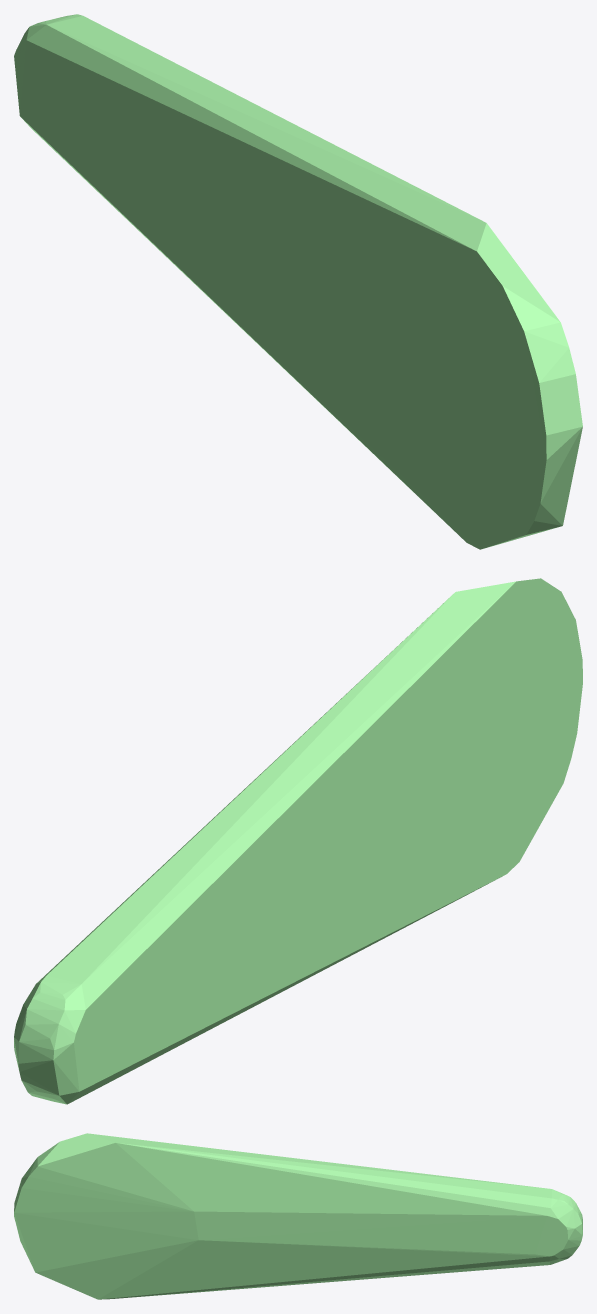
Rendered from flywheel_pendulum__34__.dae.
The picture shows the model from 3 angles, top to bottom: view 1: azimuth 30°, elevation 25°; view 2: azimuth 150°, elevation 25°; view 3: azimuth 270°, elevation 25°; orthographic projection. The views are drawn at different scales.
Visible parts, largest first — view 1: Node_0x7f5228fcb300; view 2: Node_0x7f5228fcb300; view 3: Node_0x7f5228fcb300.
Boxes of the visible parts, x1,y1,x2,y2 form: Node_0x7f5228fcb300: (14, 14, 582, 549); Node_0x7f5228fcb300: (14, 578, 582, 1104); Node_0x7f5228fcb300: (14, 1133, 582, 1299).
Size of the model in its own units: 0.011 by 0.0467 by 0.1534.
